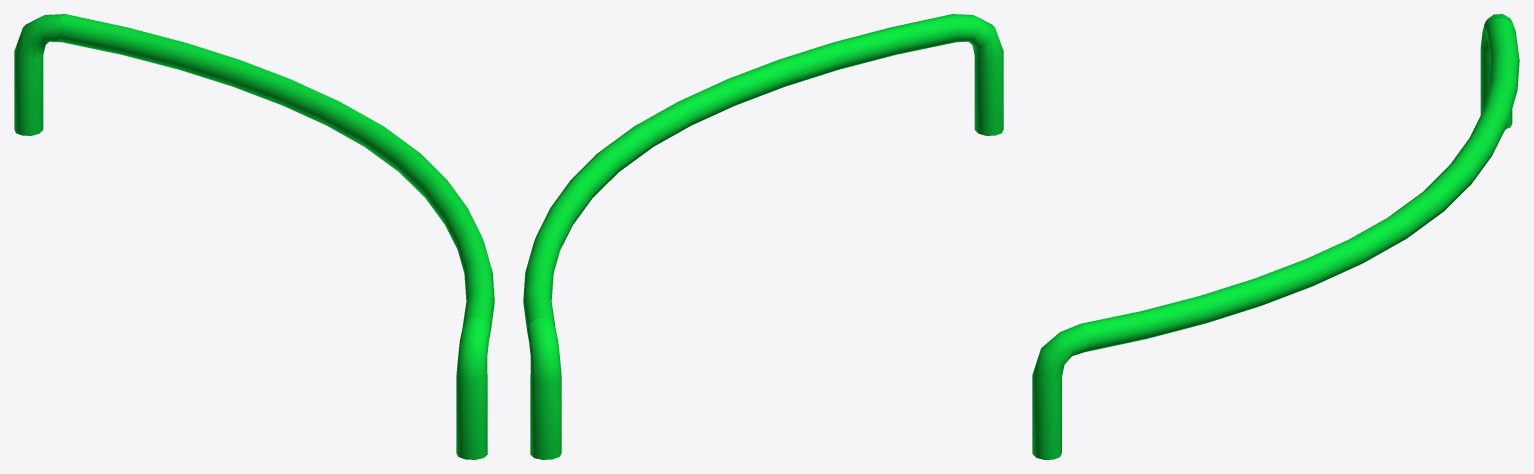
File: Fence_01_B.fbx
The picture shows the model from 3 angles, left to right: view 1: azimuth 30°, elevation 25°; view 2: azimuth 150°, elevation 25°; view 3: azimuth 330°, elevation 25°; orthographic projection.
Visible parts, largest first — view 1: Fence_01_B; view 2: Fence_01_B; view 3: Fence_01_B.
Part boxes in pixels (x1,y1,x2,y2): Fence_01_B: (14,14,494,459); Fence_01_B: (523,14,1003,459); Fence_01_B: (1032,14,1519,459).
Size of the model in its own units: 3.32 by 2.28 by 15.75.
